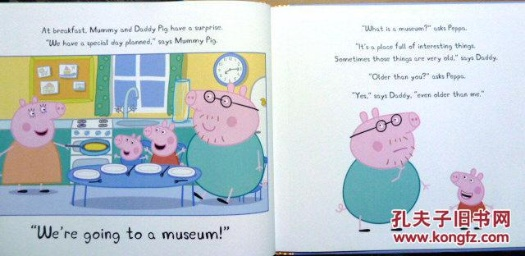Peppa: (142, 120, 189, 170), (450, 169, 487, 210)
